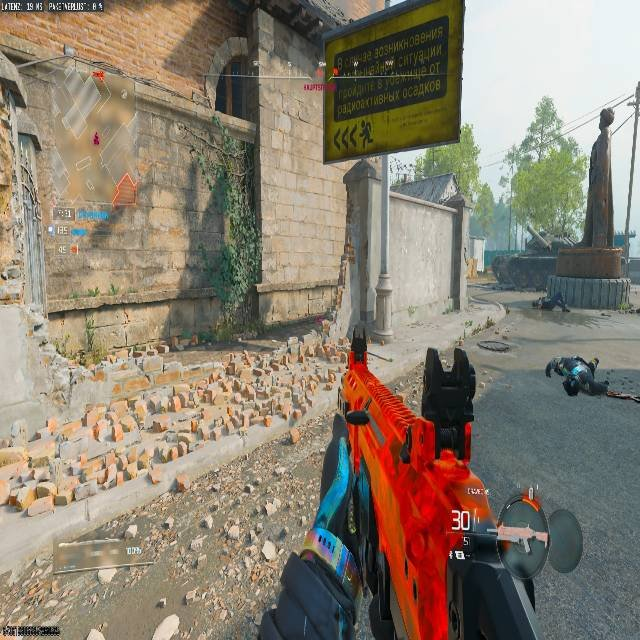head: (562, 376, 579, 396), (545, 360, 558, 378)
